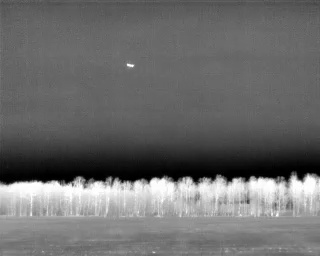DRONE: (123, 59, 138, 72)
